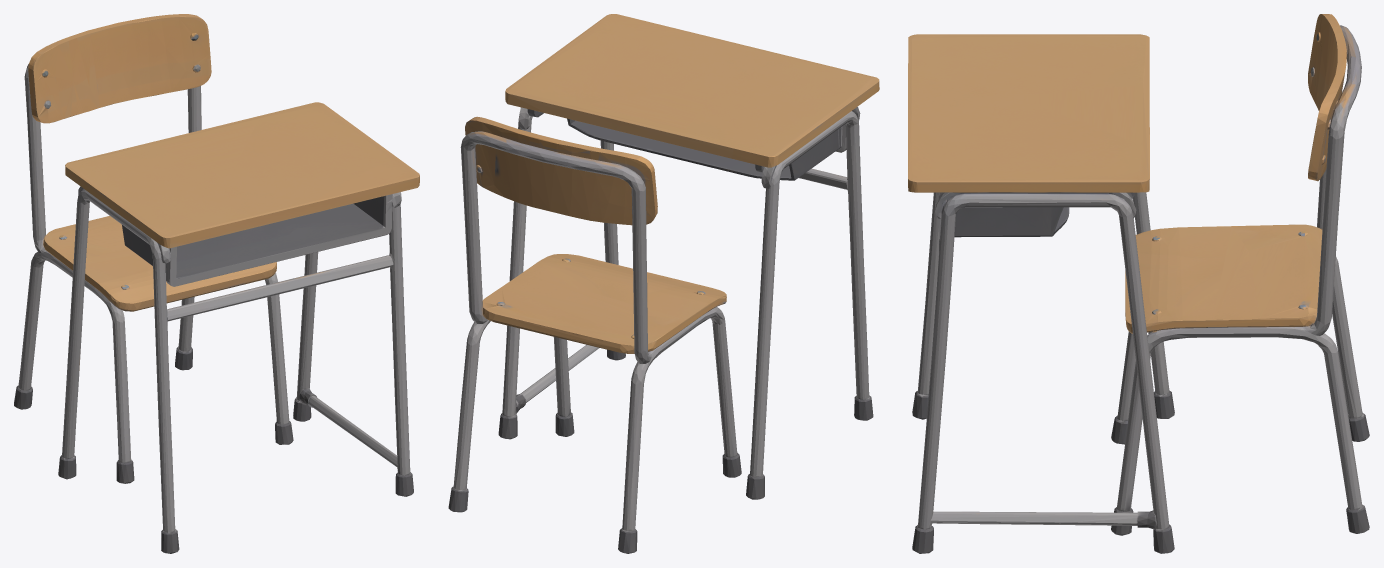
File: school_desk_chair.glb
3 views of the same model, side by side, from view 1: azimuth 30°, elevation 25°; view 2: azimuth 150°, elevation 25°; view 3: azimuth 270°, elevation 25° (orthographic). The views are drawn at different scales.
Parts seen in each view (by area): view 1: school_desk_chair; view 2: school_desk_chair; view 3: school_desk_chair.
Boxes of the visible parts, x1,y1,x2,y2 form: school_desk_chair: [14, 14, 419, 553]; school_desk_chair: [448, 14, 879, 553]; school_desk_chair: [908, 14, 1369, 553].
Size of the model in its own units: 0.6028 by 0.82 by 0.7951.
Materials: 1 (1 with a texture image).
